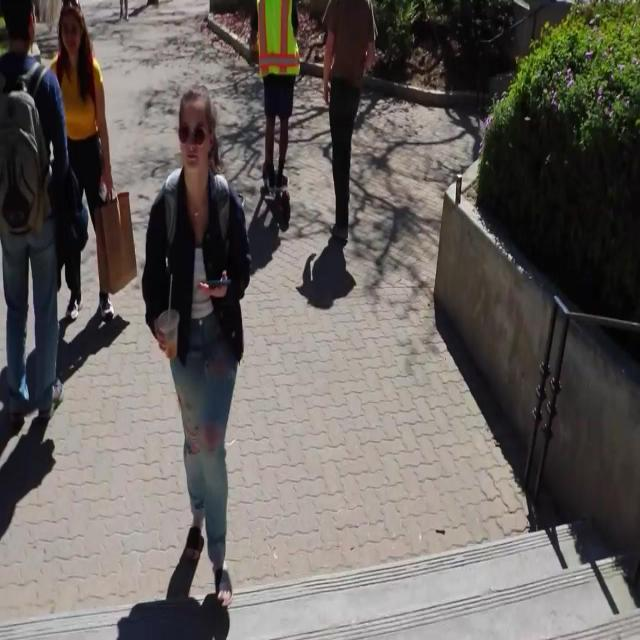Reflective-Jacket: (252, 1, 304, 87)
Safety-Helmet: (55, 1, 91, 25)
